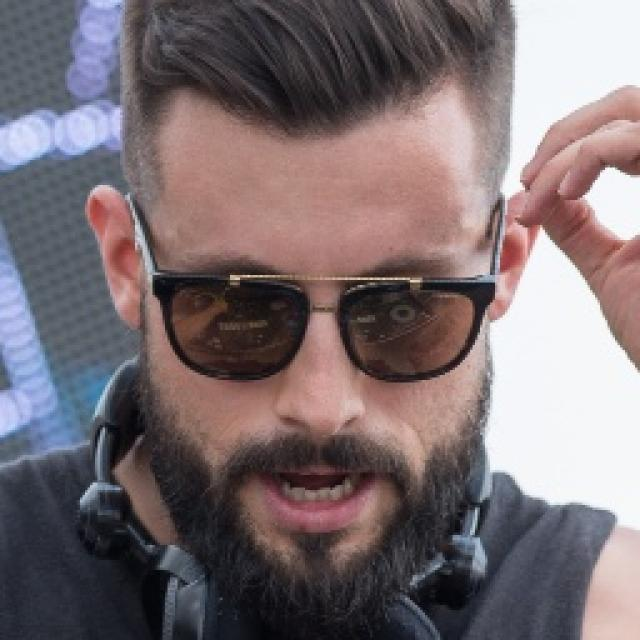glasses: (122, 192, 532, 386)
